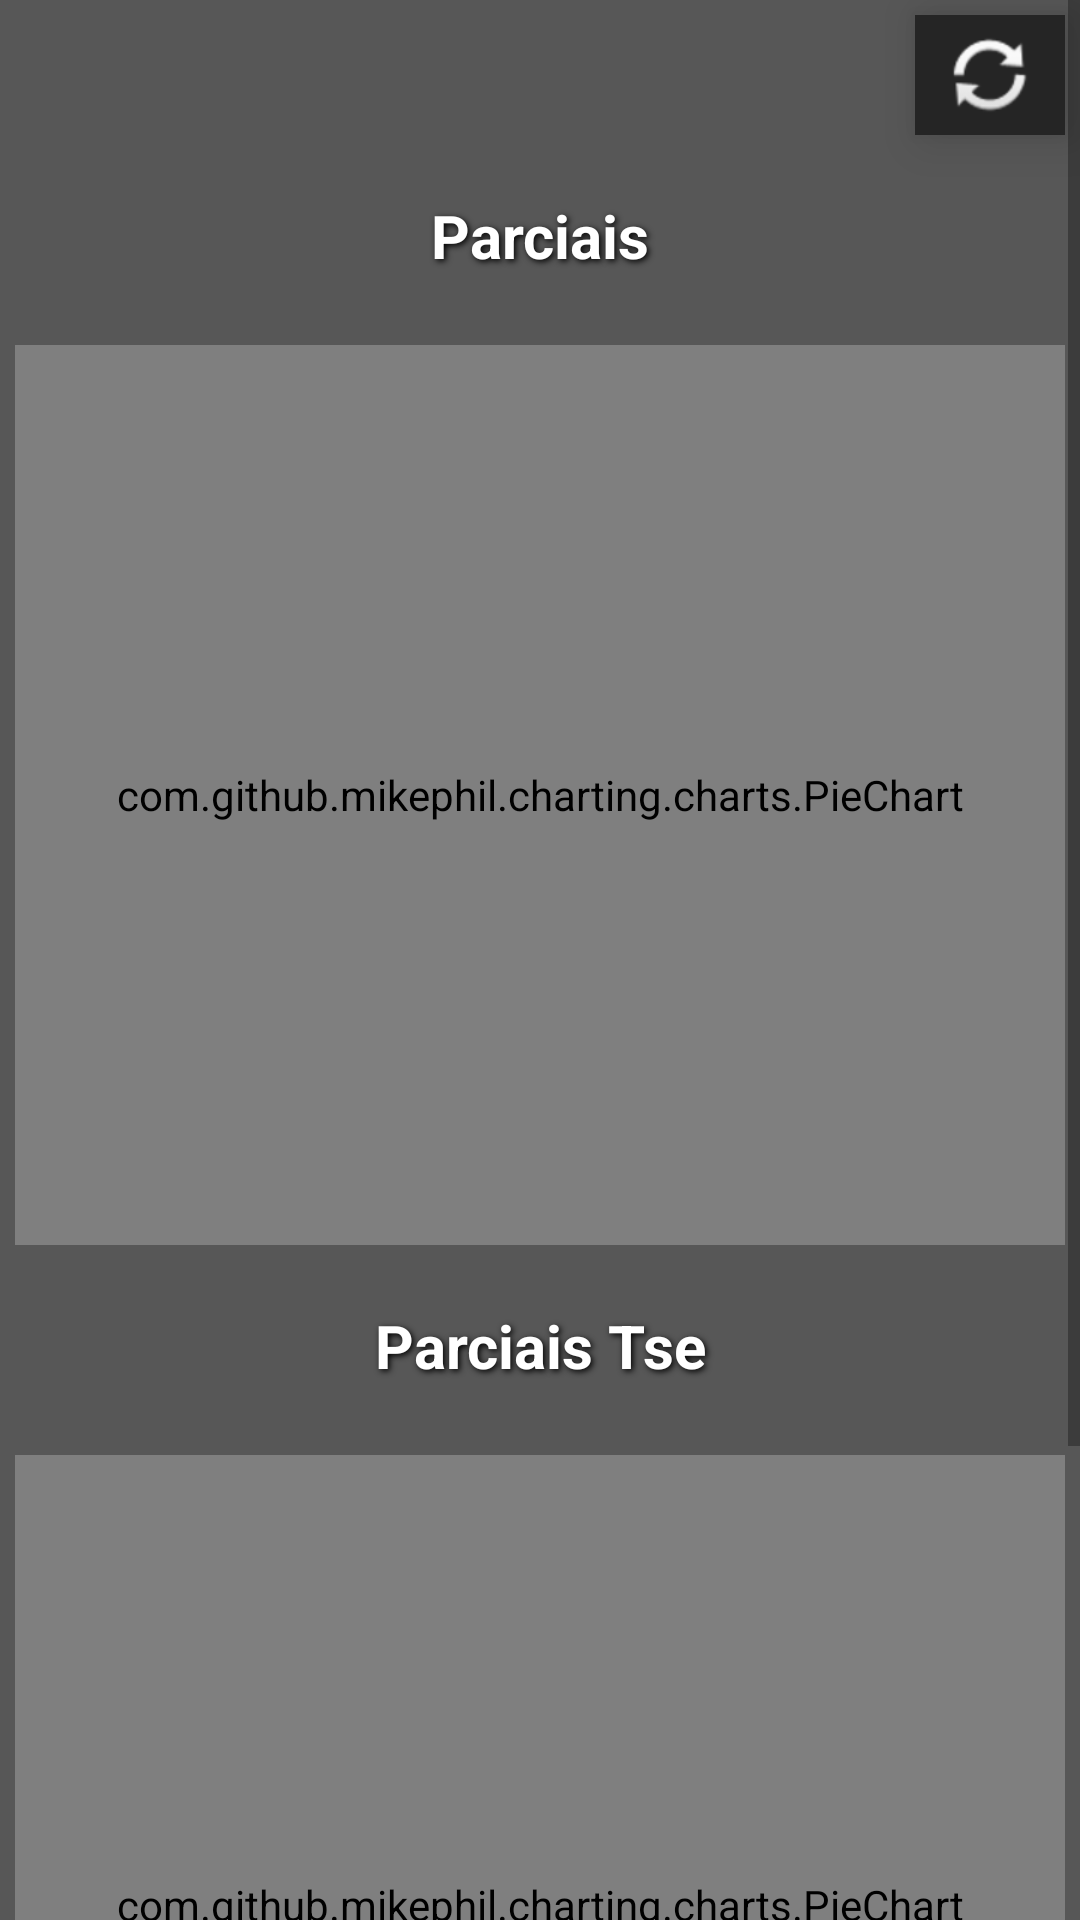

Where to tap for icons on this 1080*1920 app screen, as (x,y):
popup sync: (990,75)
